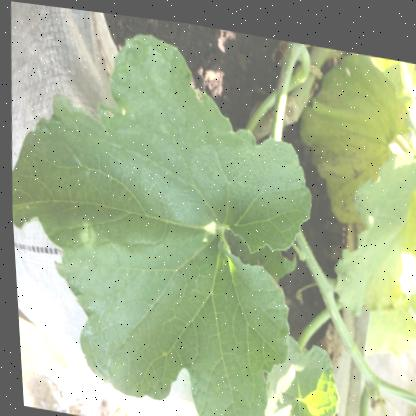Normal: (0, 0, 329, 415)
